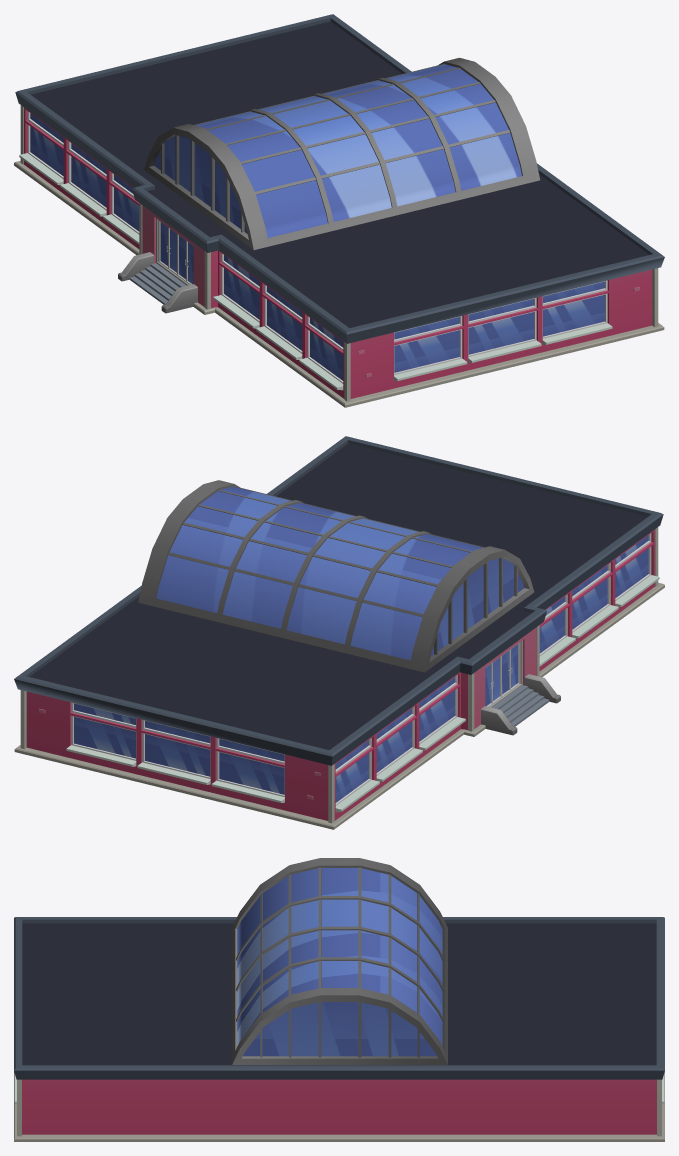
The model's file is Building_16_2_L.fbx.
The picture shows the model from 3 angles, top to bottom: view 1: azimuth 30°, elevation 25°; view 2: azimuth 150°, elevation 25°; view 3: azimuth 270°, elevation 25°; orthographic projection.
Visible parts, largest first — view 1: Building_16_2_L; view 2: Building_16_2_L; view 3: Building_16_2_L.
Boxes of the visible parts, box(x1,y1,x2,y2) form: Building_16_2_L: box(14, 14, 664, 407); Building_16_2_L: box(14, 436, 664, 829); Building_16_2_L: box(14, 858, 664, 1141).
Bounding box in the file's own units: 1888 × 718 × 3026.
